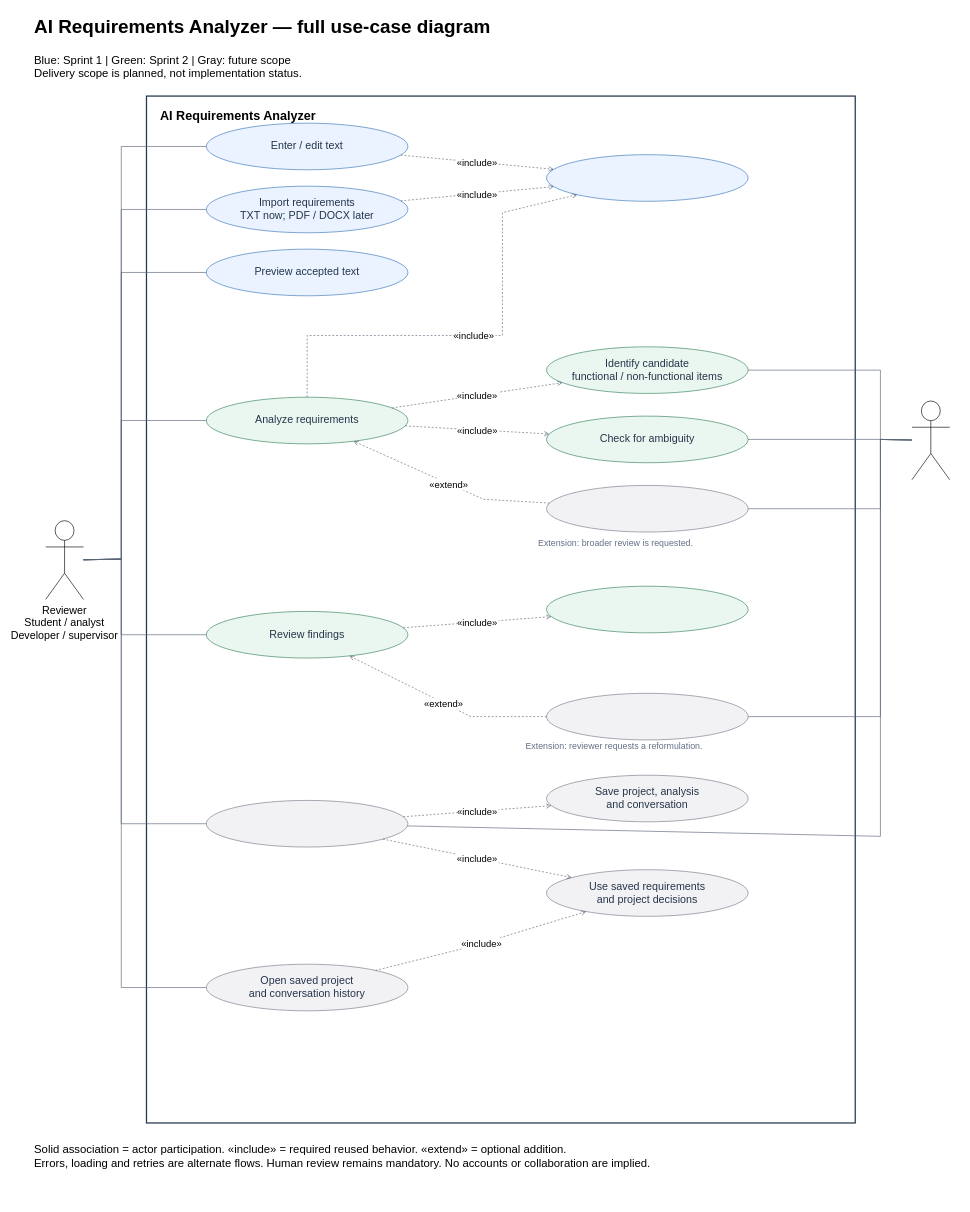
Image size: 970x1212. Some labels were removed from this diagram. Each missing label, with the box of its shape:
AI API: (911, 400, 950, 480)
Discuss the document: (206, 800, 408, 847)
Inspect source excerpts, explanations and questions: (546, 586, 748, 633)
Request clearer wording: (546, 693, 748, 740)
Review risks and constraints: (546, 485, 748, 532)
Validate input: (546, 154, 748, 201)
